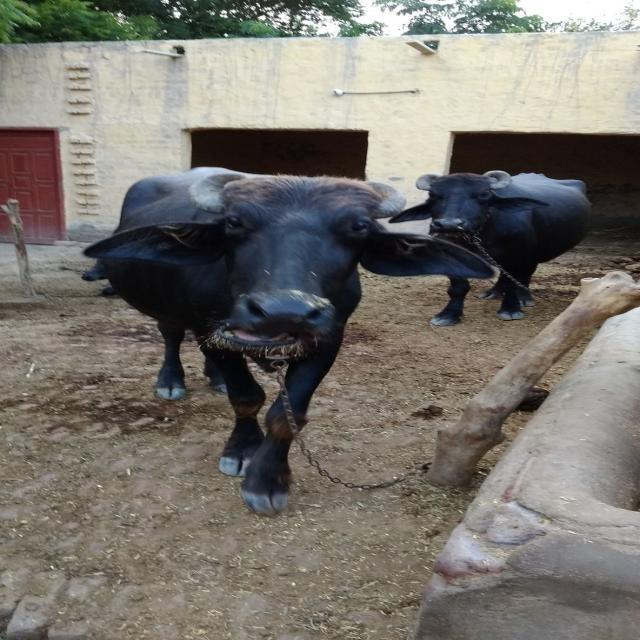Buffalo: (79, 165, 495, 516), (387, 169, 592, 326)
